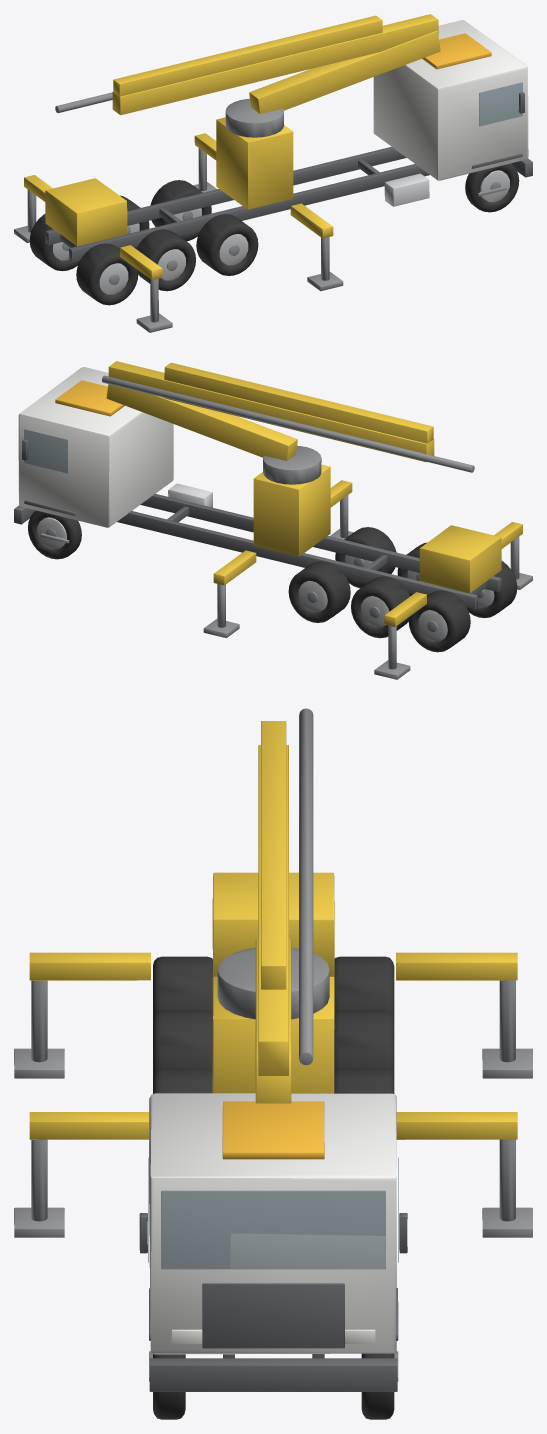
The model's file is EQP-CON-006_lod1.glb.
3 renders of one model, top to bottom at view 1: azimuth 30°, elevation 25°; view 2: azimuth 150°, elevation 25°; view 3: azimuth 270°, elevation 25°, orthographic. The views are drawn at different scales.
Visible parts, largest first — view 1: EQP-CON-006_cab, EQP-CON-006_lanca2, EQP-CON-006_torre, EQP-CON-006_lanca3, EQP-CON-006_lanca1, EQP-CON-006_cocho, EQP-CON-006_chassi_e, EQP-CON-006_chassi_d, EQP-CON-006_roda2_pneu, EQP-CON-006_roda6_pneu, EQP-CON-006_roda4_pneu, EQP-CON-006_giro (+19 smaller); view 2: EQP-CON-006_cab, EQP-CON-006_torre, EQP-CON-006_lanca3, EQP-CON-006_lanca1, EQP-CON-006_lanca2, EQP-CON-006_cocho, EQP-CON-006_chassi_d, EQP-CON-006_chassi_e, EQP-CON-006_tubo, EQP-CON-006_roda3_pneu, EQP-CON-006_roda7_pneu, EQP-CON-006_roda5_pneu (+19 smaller); view 3: EQP-CON-006_cab, EQP-CON-006_parabrisa, EQP-CON-006_grade, EQP-CON-006_parachoque, EQP-CON-006_lanca3, EQP-CON-006_torre, EQP-CON-006_cocho, EQP-CON-006_luzes, EQP-CON-006_tubo, EQP-CON-006_lanca2, EQP-CON-006_giro, EQP-CON-006_roda5_pneu (+20 smaller).
Boxes of the visible parts, left/top/right/bottom form: EQP-CON-006_cab: left=373, top=20, right=528, bottom=180; EQP-CON-006_lanca2: left=112, top=14, right=438, bottom=115; EQP-CON-006_torre: left=216, top=117, right=293, bottom=209; EQP-CON-006_lanca3: left=113, top=15, right=382, bottom=96; EQP-CON-006_lanca1: left=249, top=30, right=440, bottom=113; EQP-CON-006_cocho: left=45, top=178, right=127, bottom=246; EQP-CON-006_chassi_e: left=69, top=164, right=429, bottom=262; EQP-CON-006_chassi_d: left=45, top=146, right=406, bottom=245; EQP-CON-006_roda2_pneu: left=196, top=214, right=258, bottom=275; EQP-CON-006_roda6_pneu: left=76, top=243, right=138, bottom=305; EQP-CON-006_roda4_pneu: left=136, top=229, right=195, bottom=291; EQP-CON-006_giro: left=225, top=98, right=283, bottom=137; EQP-CON-006_cab: left=18, top=367, right=173, bottom=527; EQP-CON-006_torre: left=253, top=464, right=330, bottom=556; EQP-CON-006_lanca3: left=164, top=362, right=433, bottom=443; EQP-CON-006_lanca1: left=106, top=384, right=297, bottom=460; EQP-CON-006_lanca2: left=108, top=361, right=434, bottom=462; EQP-CON-006_cocho: left=419, top=525, right=501, bottom=593; EQP-CON-006_chassi_d: left=117, top=511, right=477, bottom=609; EQP-CON-006_chassi_e: left=140, top=493, right=501, bottom=592; EQP-CON-006_tubo: left=102, top=375, right=474, bottom=472; EQP-CON-006_roda3_pneu: left=288, top=561, right=350, bottom=622; EQP-CON-006_roda7_pneu: left=408, top=590, right=470, bottom=652; EQP-CON-006_roda5_pneu: left=351, top=576, right=410, bottom=638; EQP-CON-006_cab: left=149, top=1093, right=396, bottom=1354; EQP-CON-006_parabrisa: left=161, top=1190, right=385, bottom=1269; EQP-CON-006_grade: left=202, top=1283, right=344, bottom=1348; EQP-CON-006_parachoque: left=149, top=1358, right=397, bottom=1391; EQP-CON-006_lanca3: left=261, top=721, right=286, bottom=989; EQP-CON-006_torre: left=212, top=976, right=334, bottom=1093; EQP-CON-006_cocho: left=212, top=872, right=334, bottom=977; EQP-CON-006_luzes: left=222, top=1101, right=324, bottom=1159; EQP-CON-006_tubo: left=299, top=708, right=313, bottom=1065; EQP-CON-006_lanca2: left=258, top=745, right=288, bottom=1075; EQP-CON-006_giro: left=217, top=947, right=329, bottom=1019; EQP-CON-006_roda5_pneu: left=334, top=1010, right=394, bottom=1077.
Size of the model in its own units: 9.58 by 4 by 5.1.
